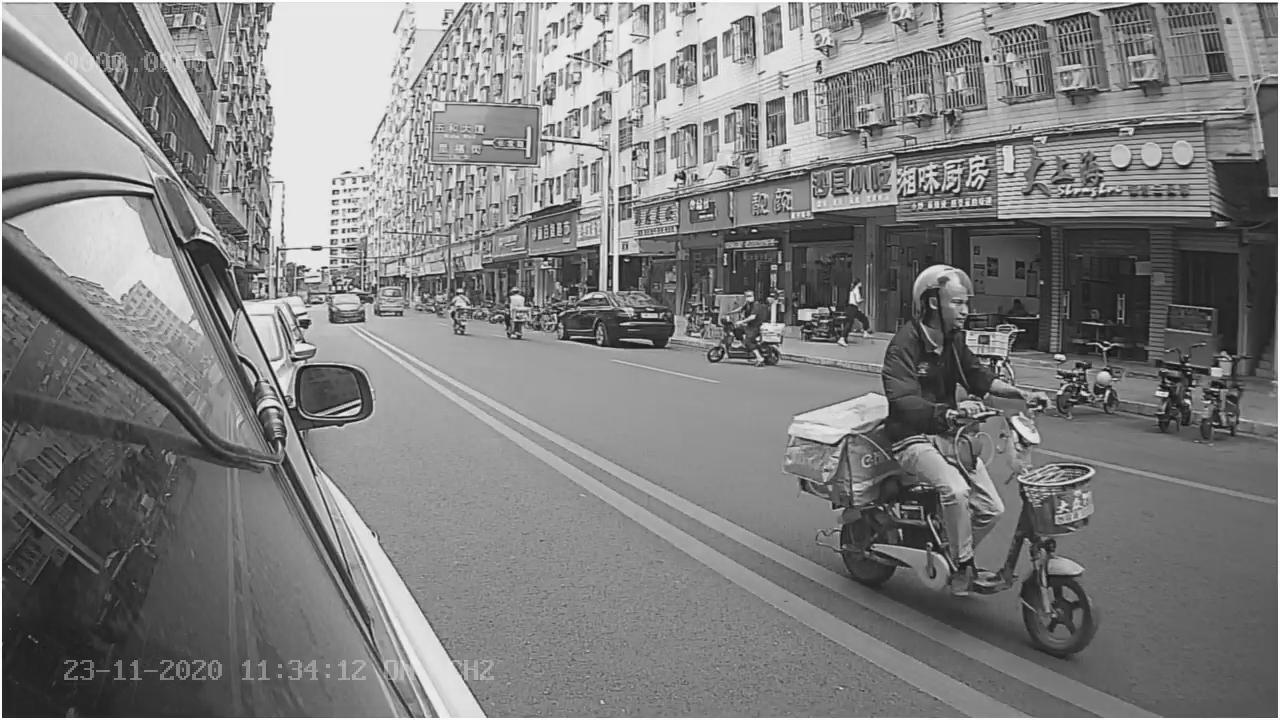person: (887, 262, 1029, 425)
